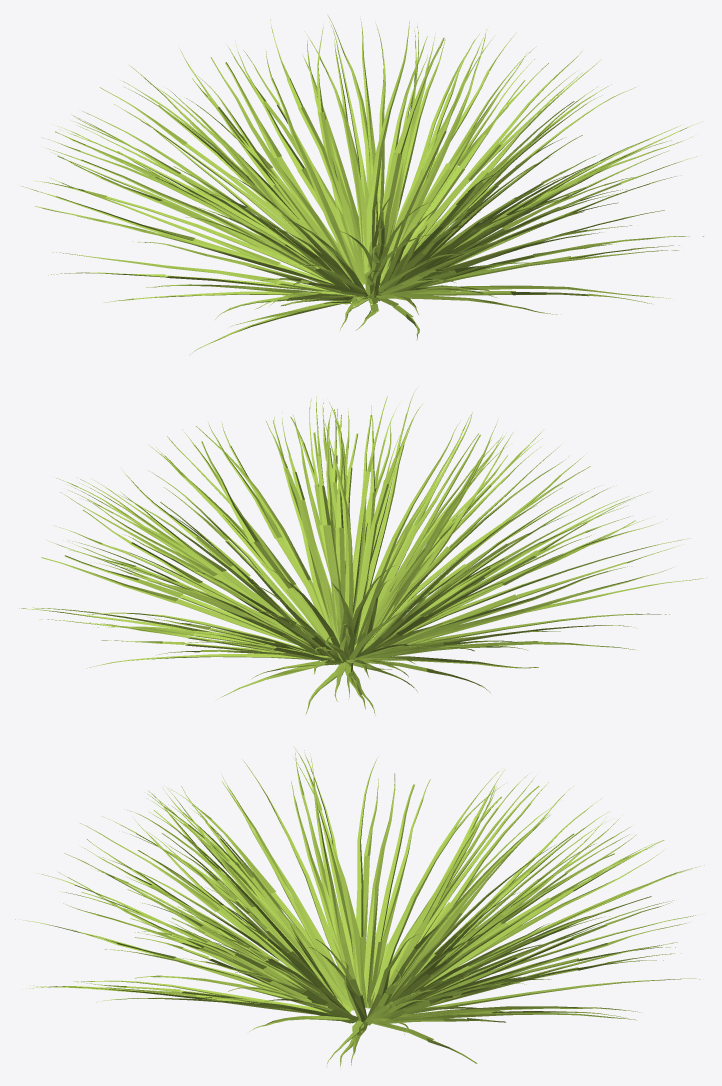
File: CartoonBrushImport.fbx
The picture shows the model from 3 angles, top to bottom: view 1: azimuth 30°, elevation 25°; view 2: azimuth 150°, elevation 25°; view 3: azimuth 270°, elevation 25°; orthographic projection. The views are drawn at different scales.
Parts seen in each view (by area): view 1: objObject0; view 2: objObject0; view 3: objObject0.
Part boxes in pixels (x1,y1,x2,y2): objObject0: (21,16,703,355); objObject0: (19,388,707,715); objObject0: (15,746,704,1067).
Bounding box in the file's own units: 12.53 × 3.5 × 11.96.
